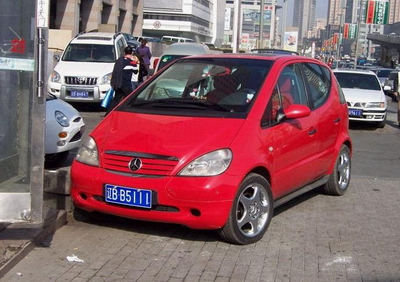plate_number: (103, 185, 150, 208)
